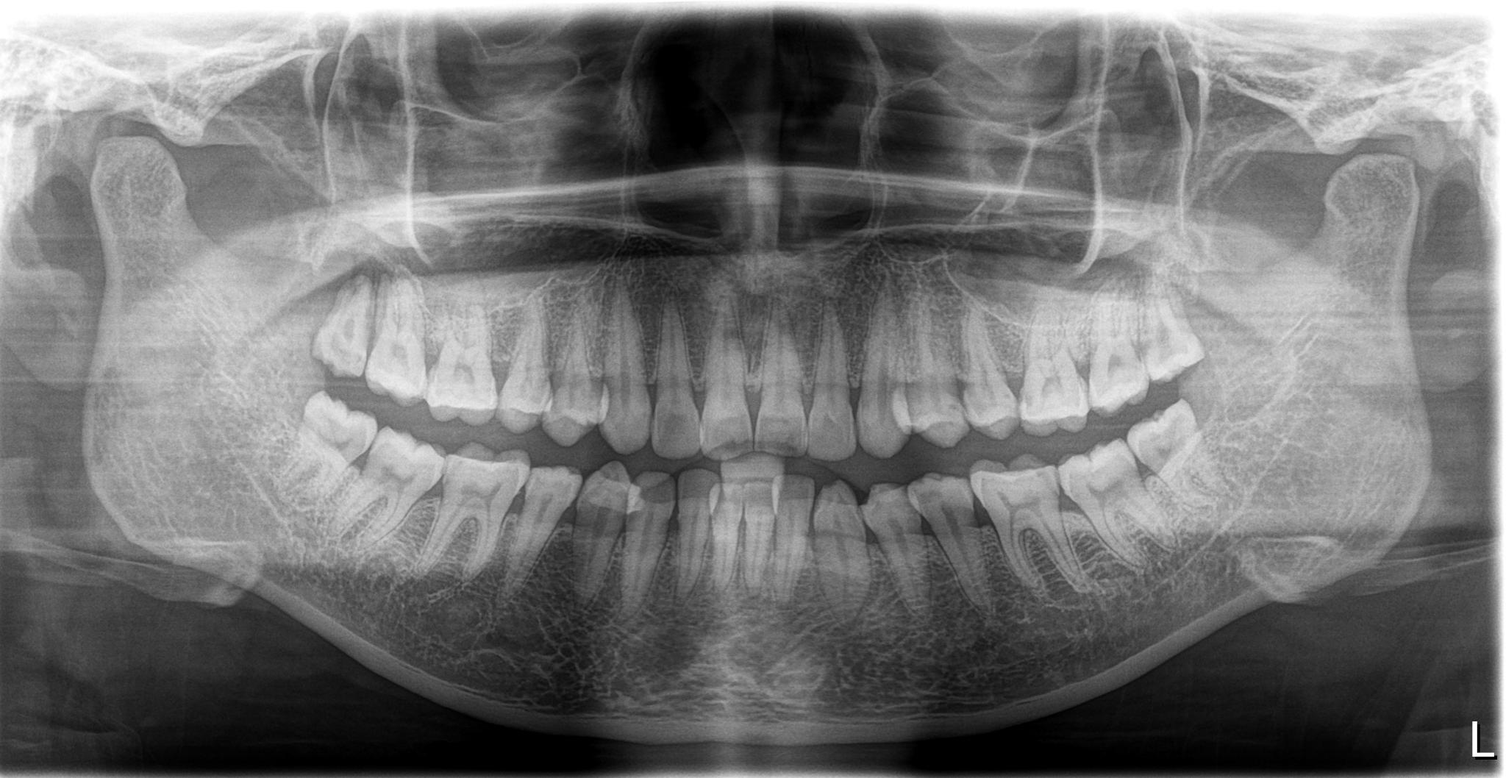Impacted Third Molar: (292, 396, 385, 497), (1129, 411, 1213, 480)
